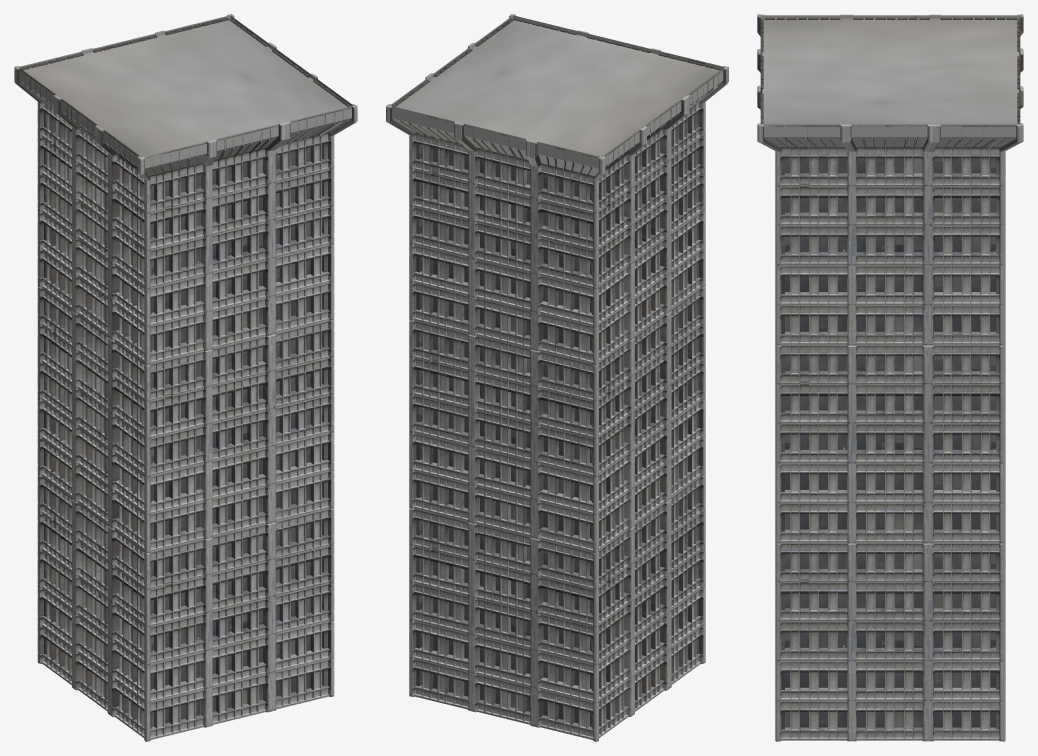
The model's file is building_07.glb.
3 renders of one model, left to right at view 1: azimuth 30°, elevation 25°; view 2: azimuth 150°, elevation 25°; view 3: azimuth 270°, elevation 25°, orthographic. The views are drawn at different scales.
Parts seen in each view (by area): view 1: Plane_0; view 2: Plane_0; view 3: Plane_0.
Part boxes in pixels (x1=…): Plane_0: x1=14, y1=14, x2=357, y2=741; Plane_0: x1=386, y1=14, x2=728, y2=741; Plane_0: x1=757, y1=14, x2=1023, y2=741.
Size of the model in its own units: 1.21 by 3.15 by 1.22.
Materials: 2 (2 with a texture image).
